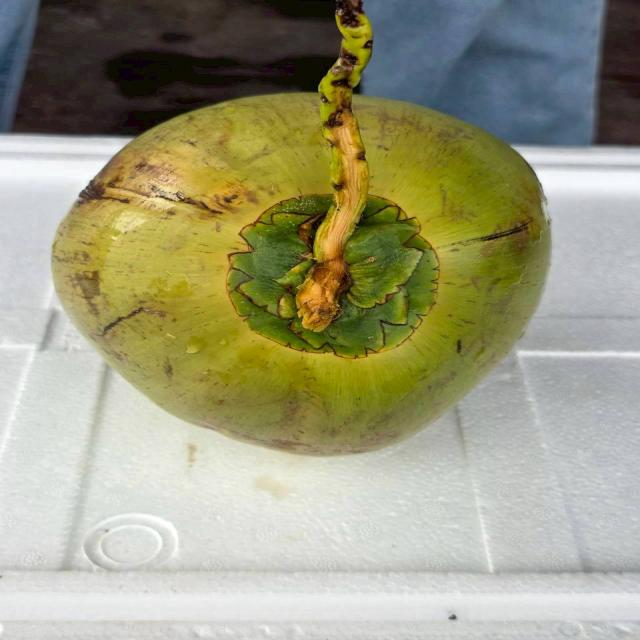coco_2.0: (196, 174, 466, 372)
